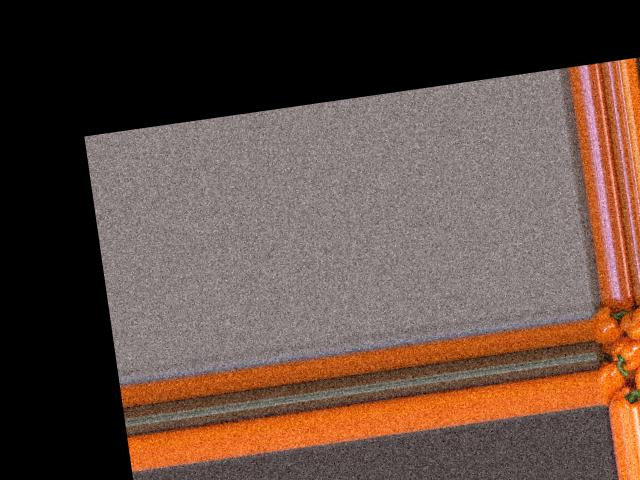bell_pepper: (598, 293, 640, 323)
